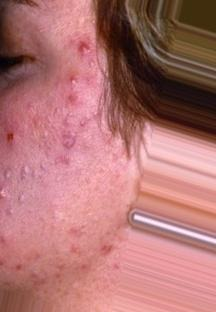Acne: (6, 30, 122, 285)
